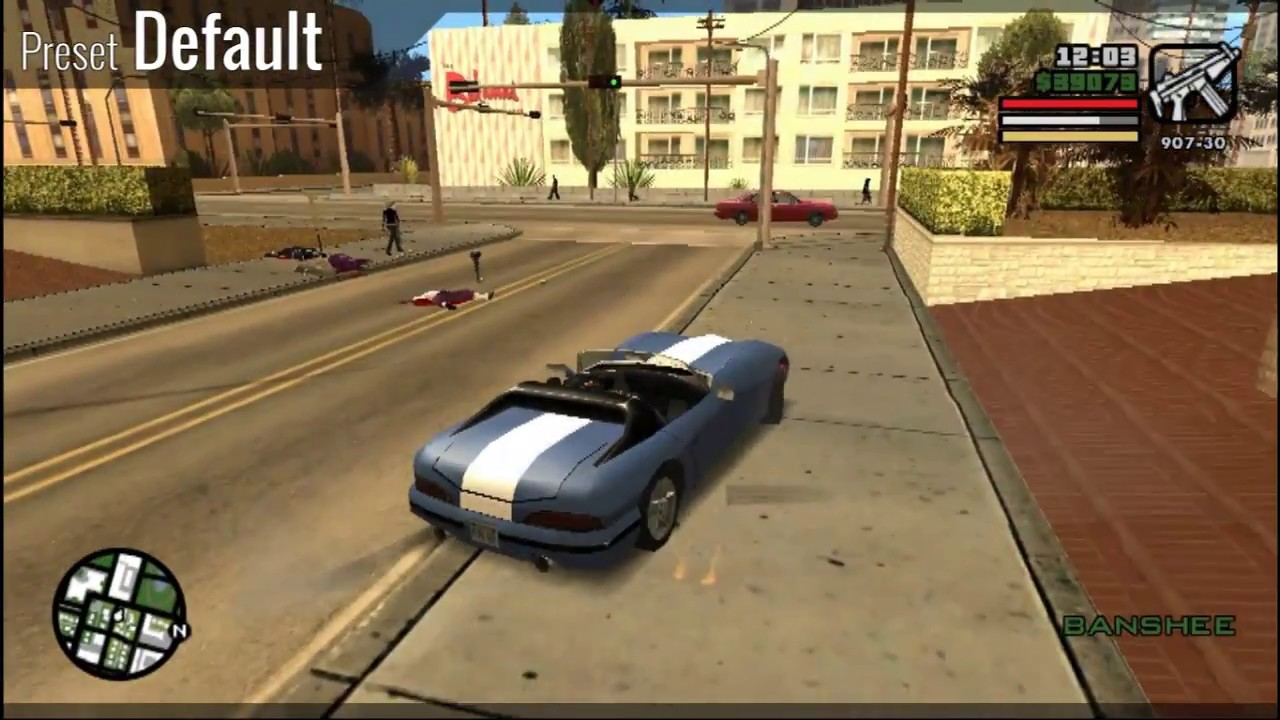car: (392, 322, 801, 553), (711, 190, 840, 233)
person: (378, 198, 404, 263)
